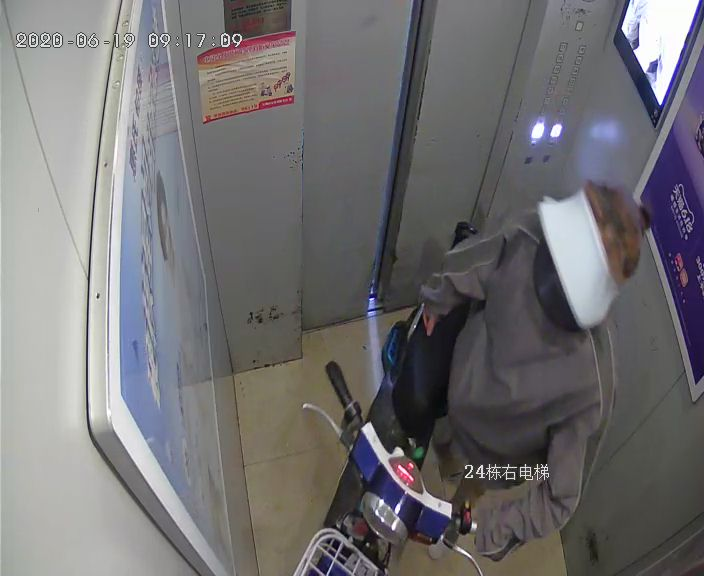Electric-bicycle: (302, 214, 489, 576)
